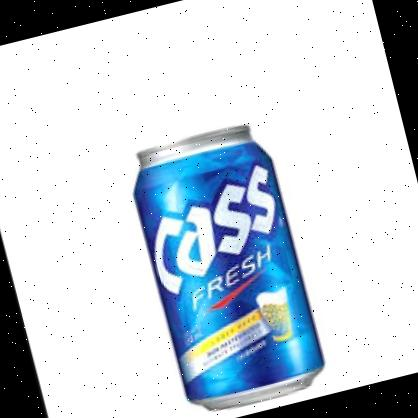can: (122, 118, 331, 418)
